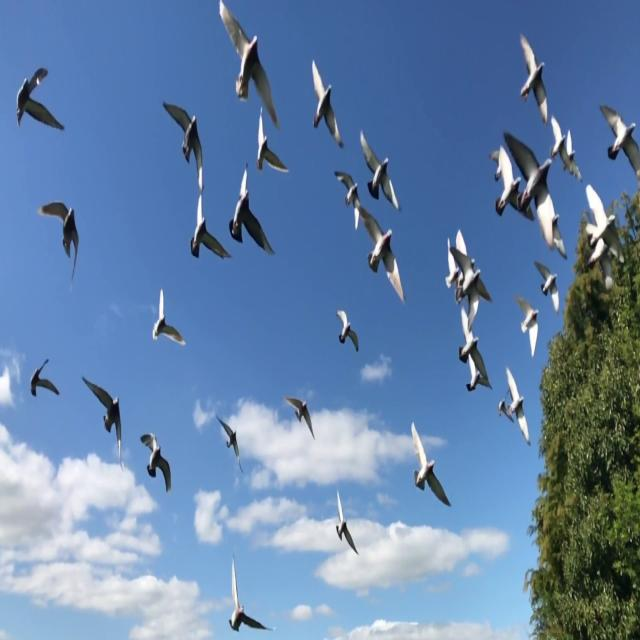bird: (211, 0, 286, 121), (492, 135, 556, 243), (444, 234, 493, 328), (189, 169, 231, 270), (229, 168, 274, 254), (411, 421, 454, 510), (227, 557, 274, 637), (14, 66, 67, 135), (361, 131, 400, 216), (41, 203, 85, 278), (307, 60, 341, 148), (364, 226, 403, 301), (84, 379, 126, 445), (582, 182, 622, 251), (163, 105, 204, 169), (601, 106, 639, 175), (520, 34, 549, 123), (499, 366, 530, 446), (251, 117, 290, 174), (140, 434, 176, 495), (150, 287, 187, 345), (459, 334, 490, 396), (547, 121, 581, 176), (330, 491, 357, 556), (516, 296, 542, 358), (536, 260, 564, 312), (283, 395, 314, 438), (27, 359, 61, 398), (332, 170, 362, 214), (216, 414, 241, 462), (336, 310, 360, 353)
